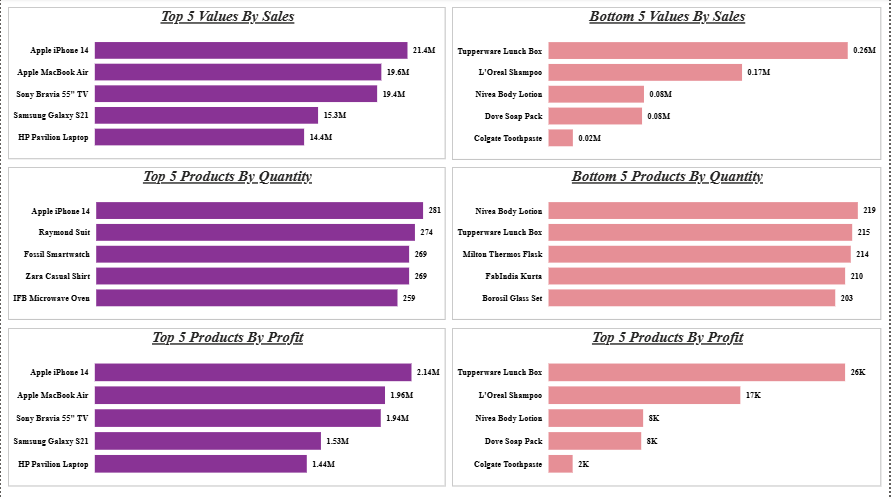

This screenshot's page, from the dashboard's own definition file:
{"tool":"powerbi","page":{"name":"Top/Bottom 5 Analysis","canvas":[1280,720],"ordinal":1},"visuals":[{"type":"barChart","title":"Top 5 Values By Sales","fields":{"Category":["Dim Product.Product Name"],"Y":["Sum(Fact Table.Net Sales)"]},"box":[10,12.9,630,218.6],"z":0},{"type":"barChart","title":"Top 5 Products By Quantity","fields":{"Category":["Dim Product.Product Name"],"Y":["Sum(Fact Table.Units Sold)"]},"box":[10,243.3,630,220],"z":1000},{"type":"barChart","title":"Bottom 5 Values By Sales","fields":{"Category":["Dim Product.Product Name"],"Y":["Sum(Fact Table.Net Sales)"]},"box":[650,13.3,618.3,220],"z":2000},{"type":"barChart","title":"Bottom 5 Products By Quantity","fields":{"Category":["Dim Product.Product Name"],"Y":["Sum(Fact Table.Units Sold)"]},"box":[650,243.3,618.3,220],"z":3000},{"type":"barChart","title":"Top 5 Products By Profit","fields":{"Category":["Dim Product.Product Name"],"Y":["Sum(Fact Table.Profit)"]},"box":[10,475,630,228.3],"z":4000},{"type":"barChart","title":"Top 5 Products By Profit","fields":{"Category":["Dim Product.Product Name"],"Y":["Sum(Fact Table.Profit)"]},"box":[650,475,618.3,228.3],"z":5000}]}

Visuals, with their boxes in screenshot pixels (x1, y1, x2, y2), scaled from the page's 1280x720 canvas onto the 891x497 screenshot:
"Top 5 Values By Sales" barChart: crop(7, 9, 446, 160)
"Top 5 Products By Quantity" barChart: crop(7, 168, 446, 320)
"Bottom 5 Values By Sales" barChart: crop(452, 9, 883, 161)
"Bottom 5 Products By Quantity" barChart: crop(452, 168, 883, 320)
"Top 5 Products By Profit" barChart: crop(7, 328, 446, 485)
"Top 5 Products By Profit" barChart: crop(452, 328, 883, 485)
